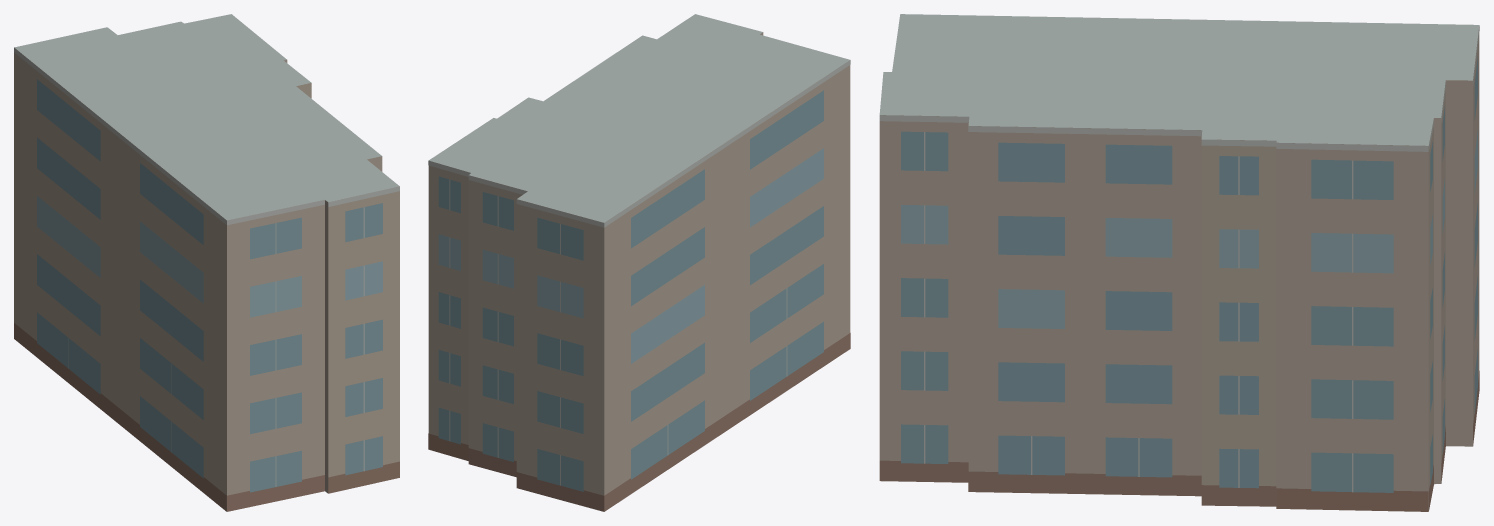
File: survey-upis-32769673.glb
3 renders of one model, left to right at view 1: azimuth 30°, elevation 25°; view 2: azimuth 150°, elevation 25°; view 3: azimuth 270°, elevation 25°, orthographic. The views are drawn at different scales.
Parts seen in each view (by area): view 1: survey-upis-32769673.tmp; view 2: survey-upis-32769673.tmp; view 3: survey-upis-32769673.tmp.
Boxes of the visible parts, bbox=[...] form: survey-upis-32769673.tmp: bbox=[14, 14, 399, 511]; survey-upis-32769673.tmp: bbox=[428, 14, 850, 511]; survey-upis-32769673.tmp: bbox=[879, 14, 1479, 511].
Bounding box in the file's own units: 11.37 × 14.7 × 21.84.
